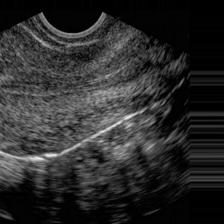no-pcos: (0, 34, 178, 206)
